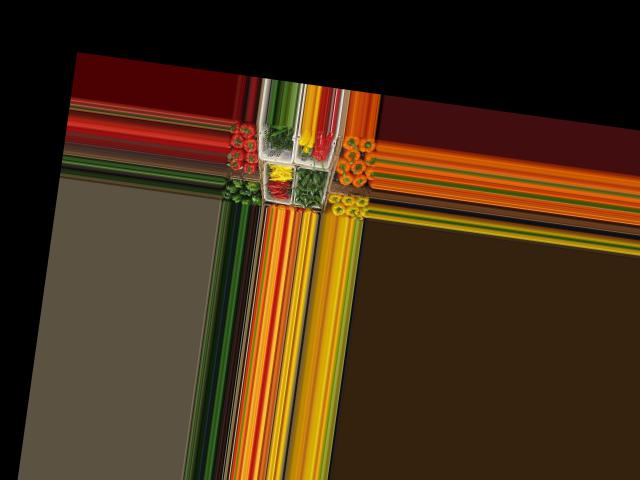bell_pepper: (230, 175, 246, 193)
